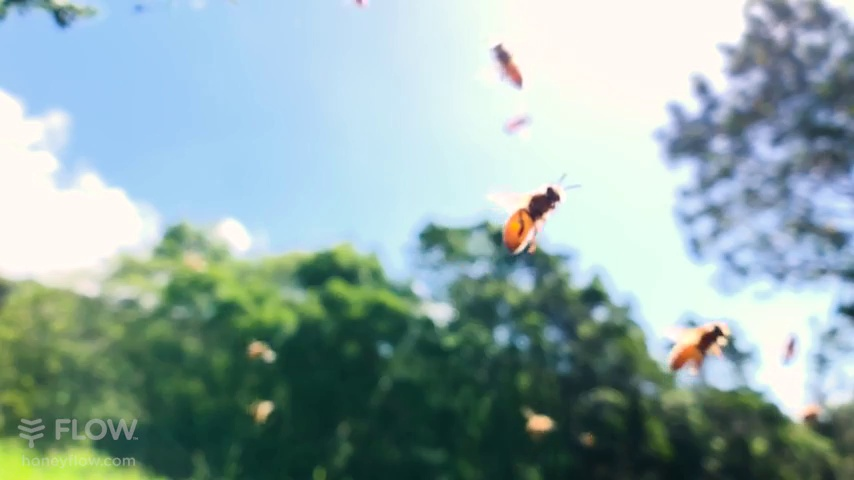insect: (491, 172, 579, 256), (664, 319, 726, 370), (490, 39, 525, 90)
